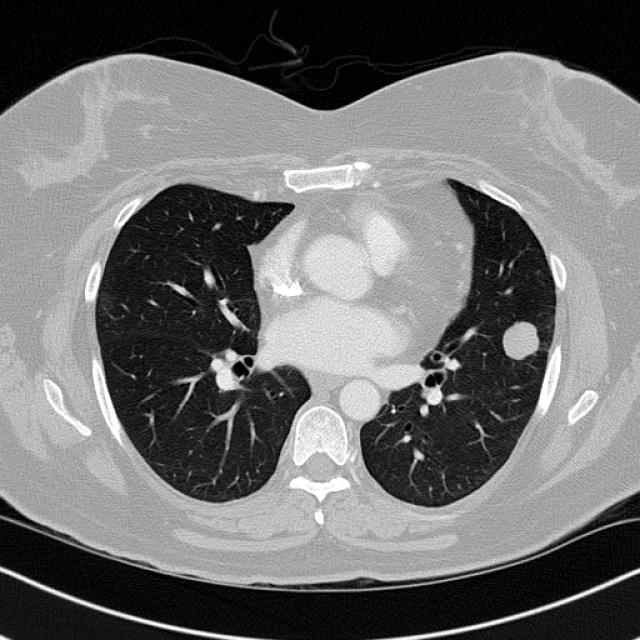nodule: (480, 301, 558, 379)
